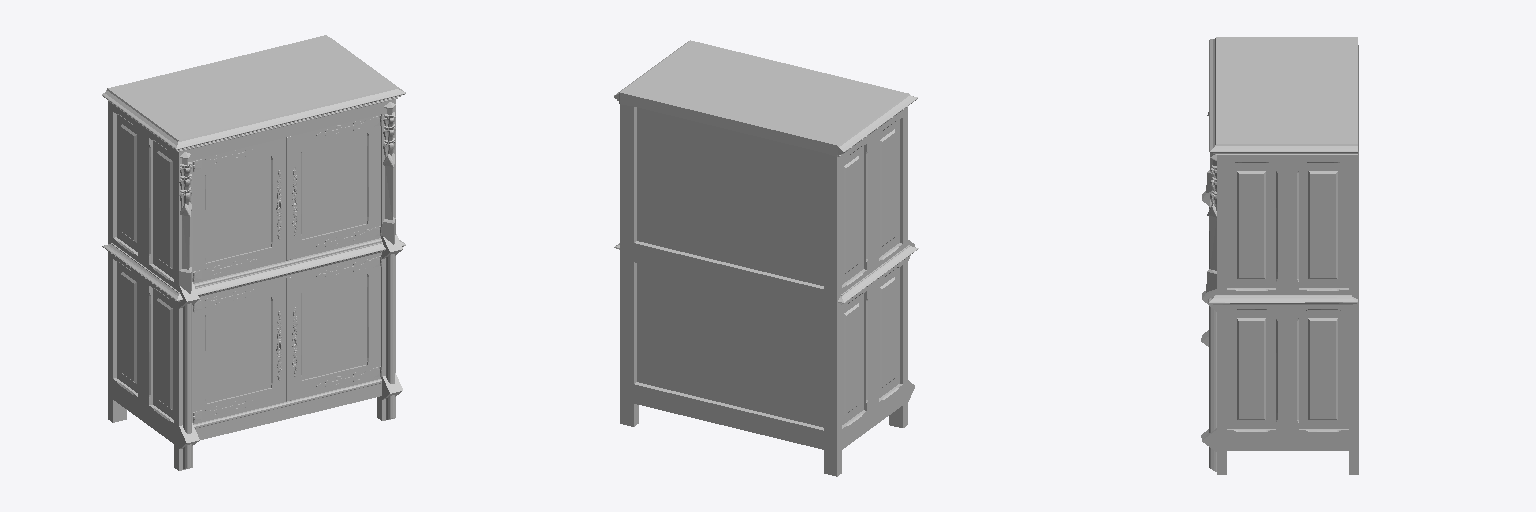
Rendered from GothicCabinet_01.obj.
The picture shows the model from 3 angles: view 1: azimuth 30°, elevation 25°; view 2: azimuth 150°, elevation 25°; view 3: azimuth 270°, elevation 25°; orthographic projection.
Visible parts, largest first — view 1: gothic_cabinet_Plane.004, gothic_cabinet.door2_Plane.001, gothic_cabinet.door4_Plane.008, gothic_cabinet.door1_Plane.000, gothic_cabinet.door3_Plane.007; view 2: gothic_cabinet_Plane.004; view 3: gothic_cabinet_Plane.004.
Boxes of the visible parts, <box> form: gothic_cabinet_Plane.004: <box>102,35,405,470</box>; gothic_cabinet.door2_Plane.001: <box>286,115,381,260</box>; gothic_cabinet.door4_Plane.008: <box>286,255,381,401</box>; gothic_cabinet.door1_Plane.000: <box>193,138,285,283</box>; gothic_cabinet.door3_Plane.007: <box>193,279,285,424</box>; gothic_cabinet_Plane.004: <box>614,40,918,476</box>; gothic_cabinet_Plane.004: <box>1201,37,1358,474</box>.
Size of the model in its own units: 1.72 by 2.36 by 1.02.